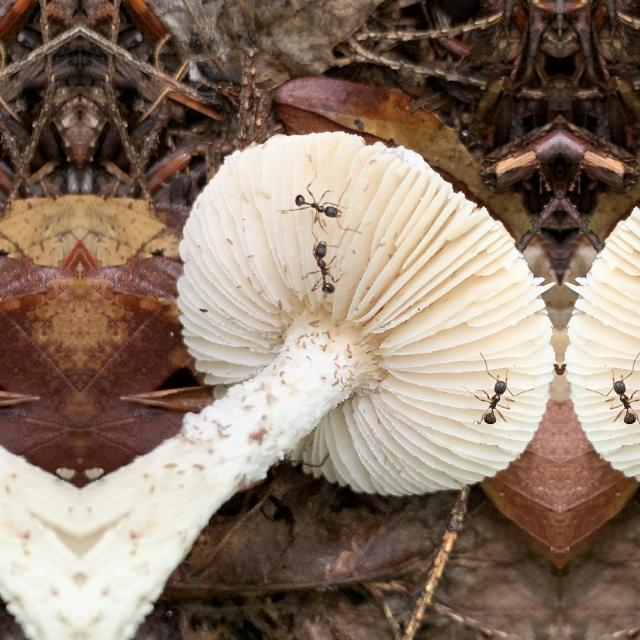Apheanogaster: (473, 362, 519, 436), (289, 181, 349, 231), (600, 362, 640, 436), (307, 237, 343, 305)
